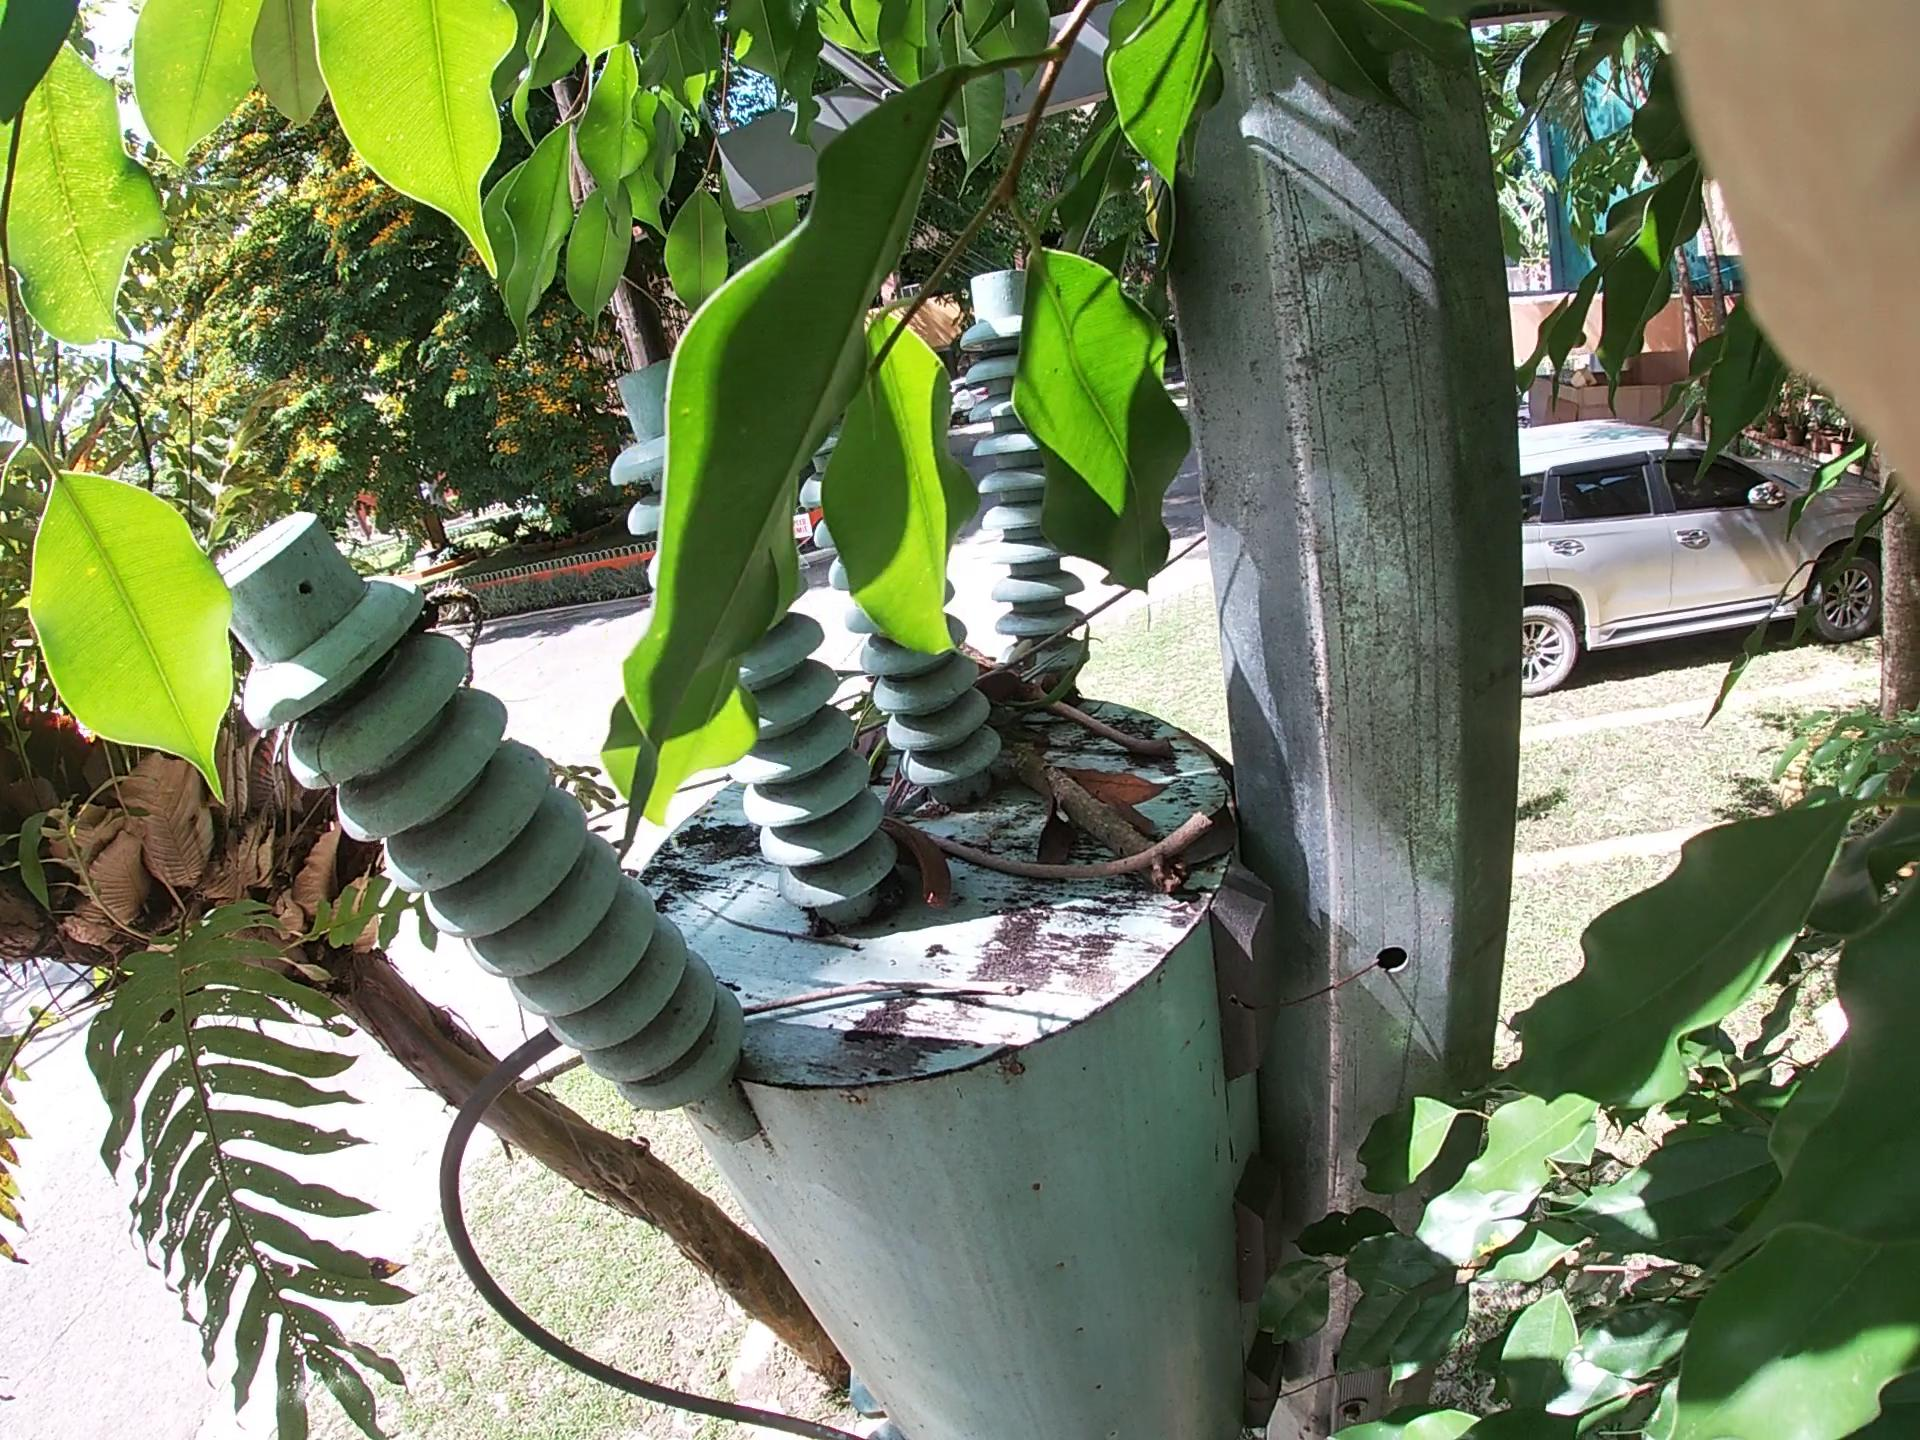branch with leaves: (925, 640, 1243, 1004)
leaf: (1061, 743, 1129, 891)
tree branch: (930, 437, 1352, 753), (457, 954, 968, 1196), (1057, 669, 1311, 843), (890, 811, 1209, 944)
